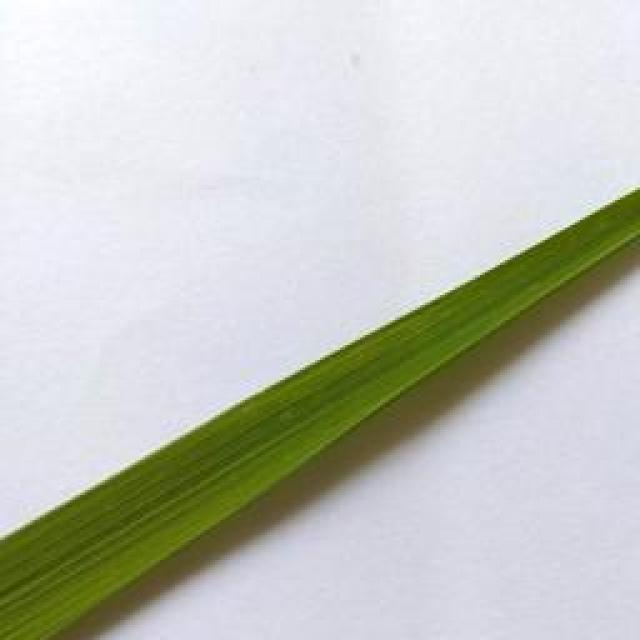Healthy-Plant: (297, 276, 496, 484), (143, 366, 319, 583), (0, 435, 155, 640), (475, 185, 640, 354)
